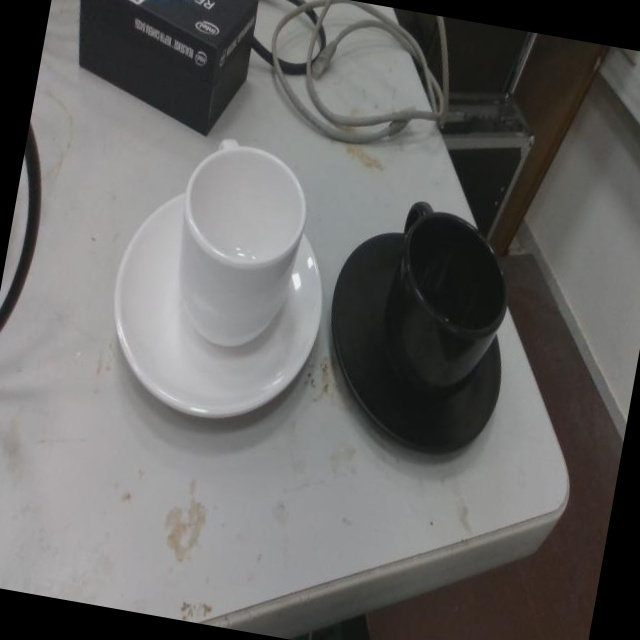black: (328, 200, 510, 459)
white: (115, 133, 329, 429)
